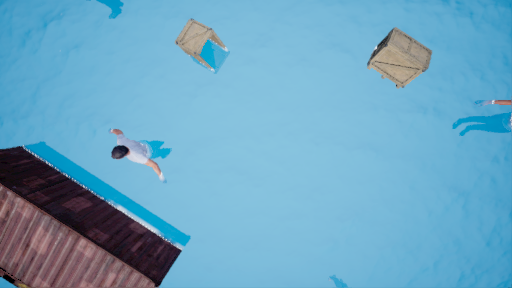person: (100, 123, 178, 186)
